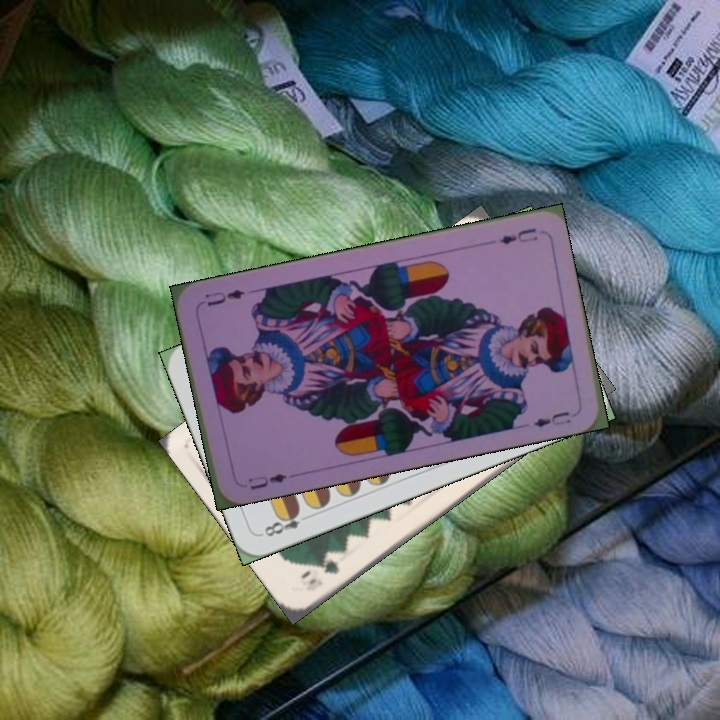E8: (257, 505, 314, 540)
EU: (244, 469, 289, 493), (495, 224, 540, 247)
G10: (304, 555, 342, 588)
